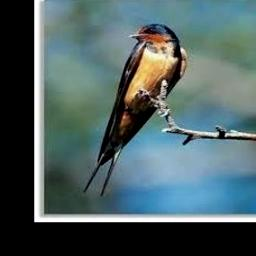Swallow: (83, 23, 187, 196)
